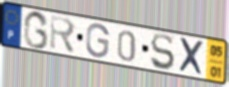0: (116, 29, 139, 62)
G: (22, 10, 50, 51), (84, 22, 111, 60)
R: (48, 13, 77, 56)
S: (149, 32, 176, 72)
X: (178, 36, 206, 78)
